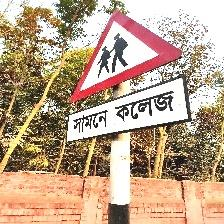College-in-front: (62, 0, 199, 162)
